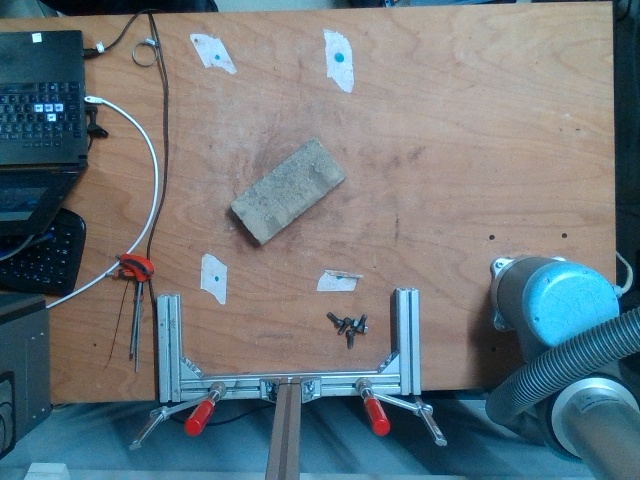brick: (230, 140, 342, 241)
